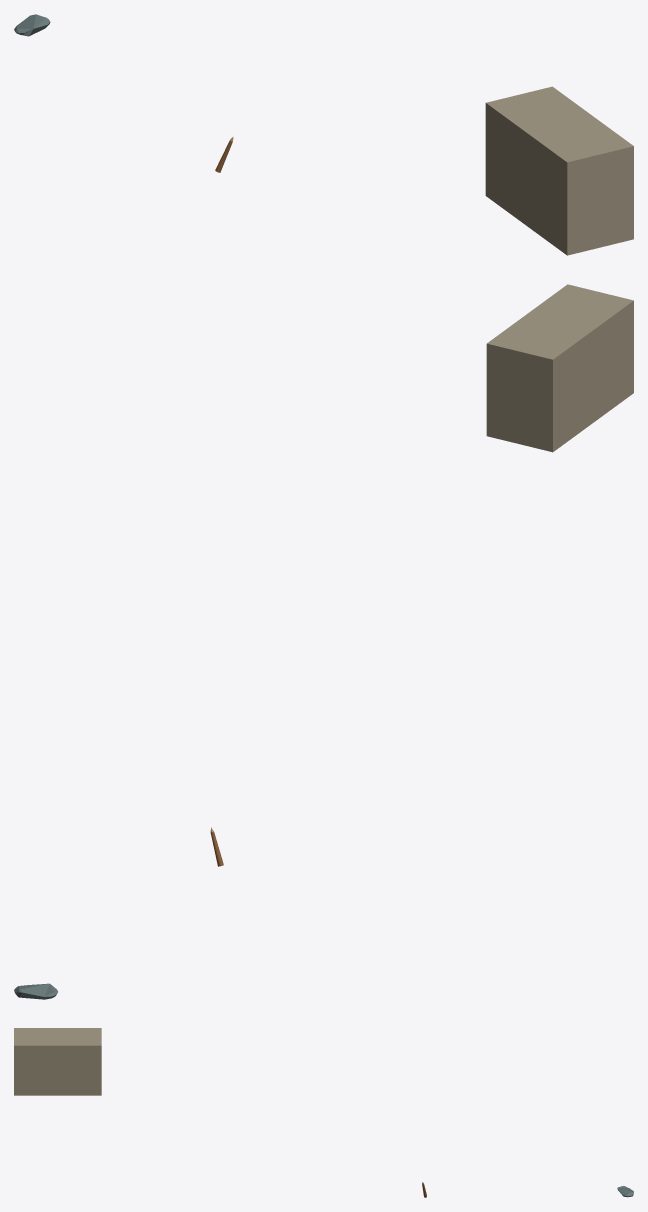
3 views of the same model, one above another, from view 1: azimuth 30°, elevation 25°; view 2: azimuth 150°, elevation 25°; view 3: azimuth 270°, elevation 25° (orthographic). The views are drawn at different scales.
Parts seen in each view (by area): view 1: Box966_wall3_0, Box894_rock_0; view 2: Box966_wall3_0; view 3: Box966_wall3_0.
Boxes of the visible parts, left/top/right/bottom form: Box966_wall3_0: left=485, top=86, right=633, bottom=255; Box894_rock_0: left=14, top=14, right=50, bottom=36; Box966_wall3_0: left=486, top=284, right=633, bottom=452; Box966_wall3_0: left=14, top=1028, right=101, bottom=1095.
Size of the model in its own units: 266 by 1135 by 3978.
